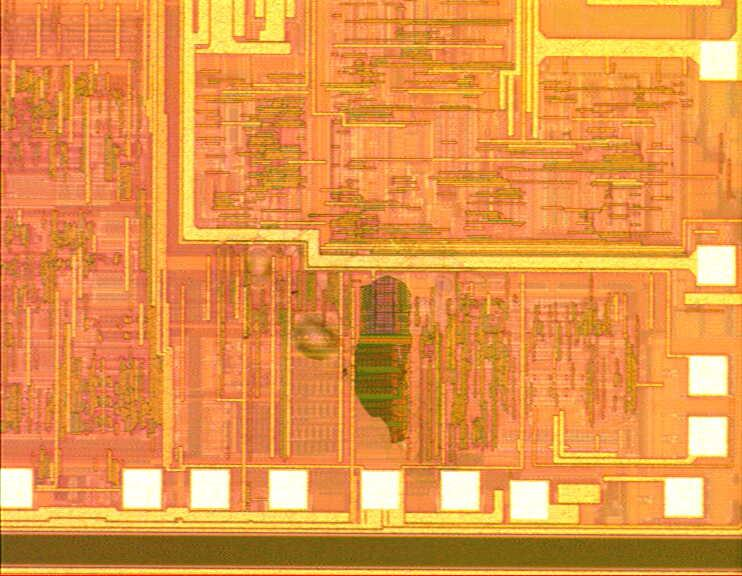COATING BAD: (355, 275, 413, 443)
